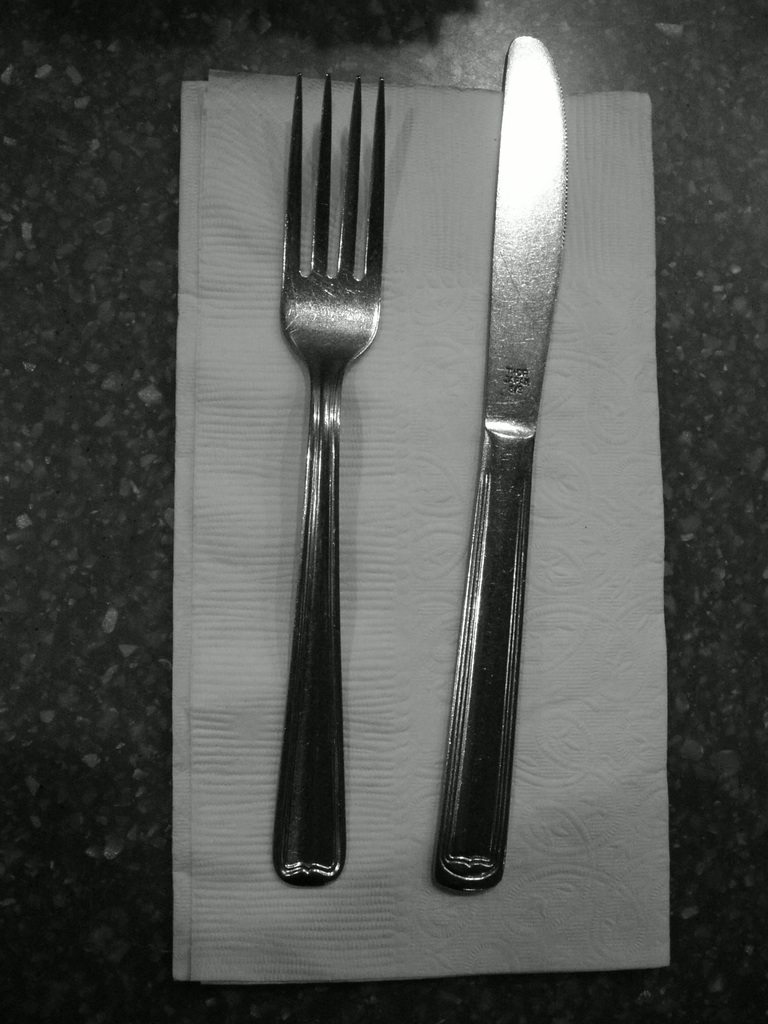fork: (273, 72, 386, 887)
